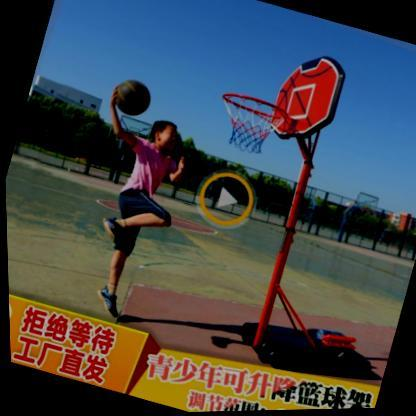basketball: (109, 75, 155, 121)
rim: (205, 87, 292, 162)
